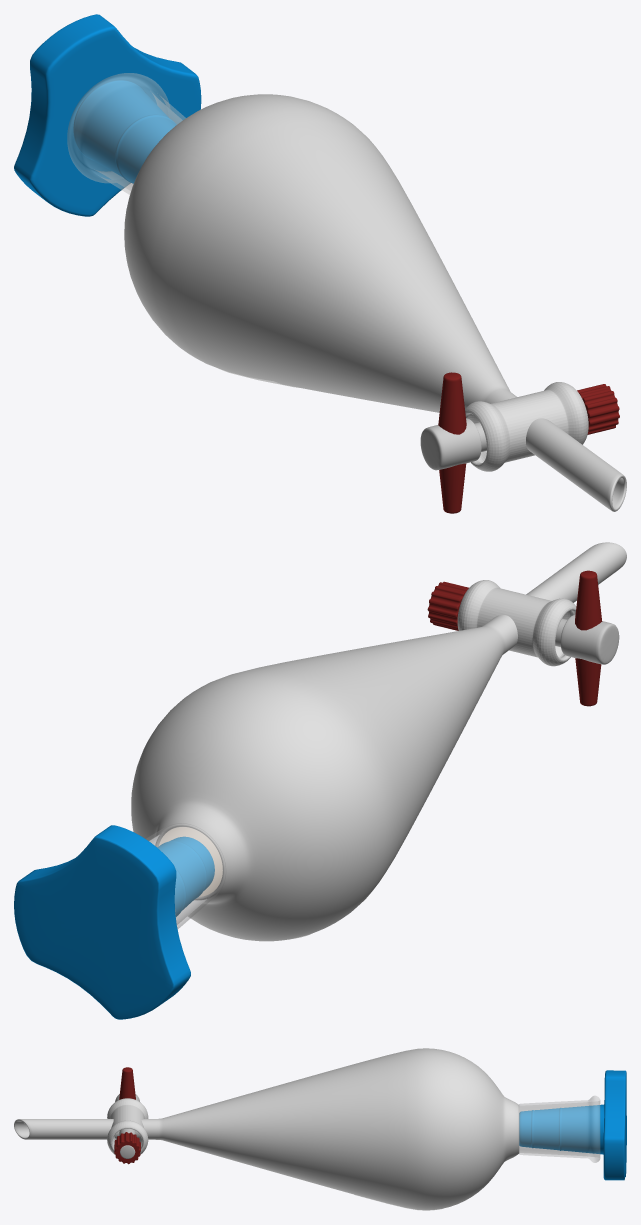
The model's file is FunnelAnimationTest.glb.
3 views of the same model, one above another, from view 1: azimuth 30°, elevation 25°; view 2: azimuth 150°, elevation 25°; view 3: azimuth 270°, elevation 25° (orthographic). The views are drawn at different scales.
Visible parts, largest first — view 1: separating funnel.007, stopper.002, knob.007; view 2: separating funnel.007, stopper.002, knob.007, Sphere.006; view 3: separating funnel.007, stopper.002, knob.007.
Part boxes in pixels (x1,y1,x2,y2): separating funnel.007: (67, 73, 626, 511); stopper.002: (14, 14, 201, 216); knob.007: (420, 372, 619, 513); separating funnel.007: (131, 542, 626, 941); stopper.002: (14, 825, 214, 1019); knob.007: (427, 570, 619, 706); Sphere.006: (159, 827, 222, 896); separating funnel.007: (14, 1048, 600, 1210); stopper.002: (519, 1070, 626, 1180); knob.007: (114, 1067, 140, 1164).
Bounding box in the file's own units: 0.429 × 0.4296 × 1.62.
